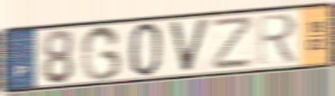0: (128, 21, 164, 79)
8: (39, 28, 76, 86)
G: (79, 24, 124, 83)
R: (255, 12, 300, 66)
V: (166, 16, 213, 75)
Z: (212, 14, 255, 72)
